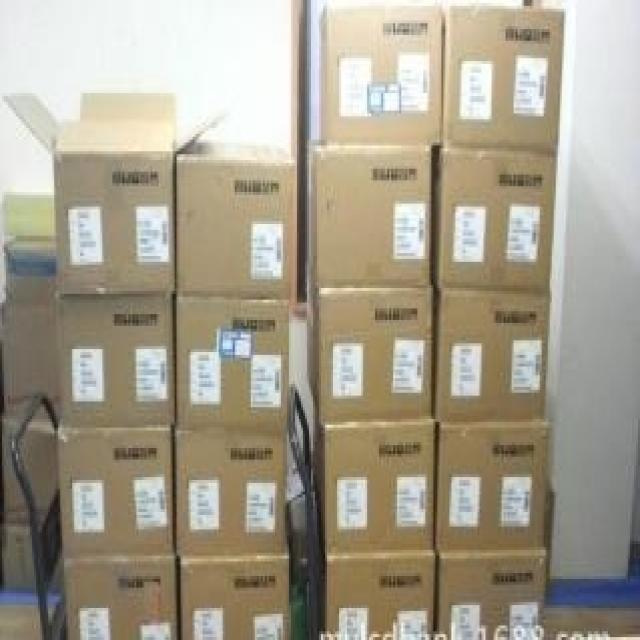Carton: (54, 148, 287, 637), (315, 151, 546, 547), (435, 422, 548, 637), (445, 3, 562, 143), (325, 6, 441, 145), (177, 157, 289, 297), (439, 151, 552, 288), (323, 553, 433, 637)
